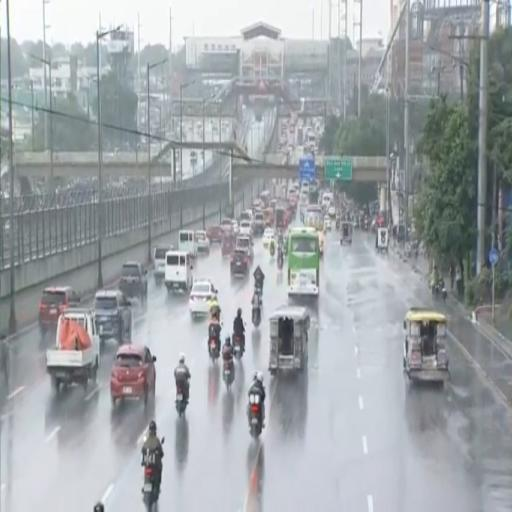bus: (288, 228, 320, 296), (304, 205, 323, 230)
car: (110, 344, 156, 406), (39, 286, 79, 337), (94, 291, 131, 344), (119, 262, 147, 301), (189, 280, 217, 316), (153, 246, 173, 281), (231, 249, 250, 276), (235, 235, 253, 260), (195, 231, 210, 253), (207, 226, 223, 243), (263, 228, 275, 247), (254, 212, 264, 234), (220, 218, 232, 232), (240, 221, 251, 235), (323, 216, 332, 230), (232, 220, 240, 234), (328, 204, 335, 217)
motorcycle: (143, 464, 158, 511), (249, 393, 262, 439), (175, 386, 188, 417), (223, 360, 235, 390), (232, 334, 244, 360), (432, 280, 447, 300), (209, 338, 220, 362), (252, 308, 260, 328), (277, 249, 283, 269), (270, 244, 275, 258), (336, 217, 340, 229)
tricycle: (221, 234, 234, 257)
truck: (46, 309, 100, 392)
